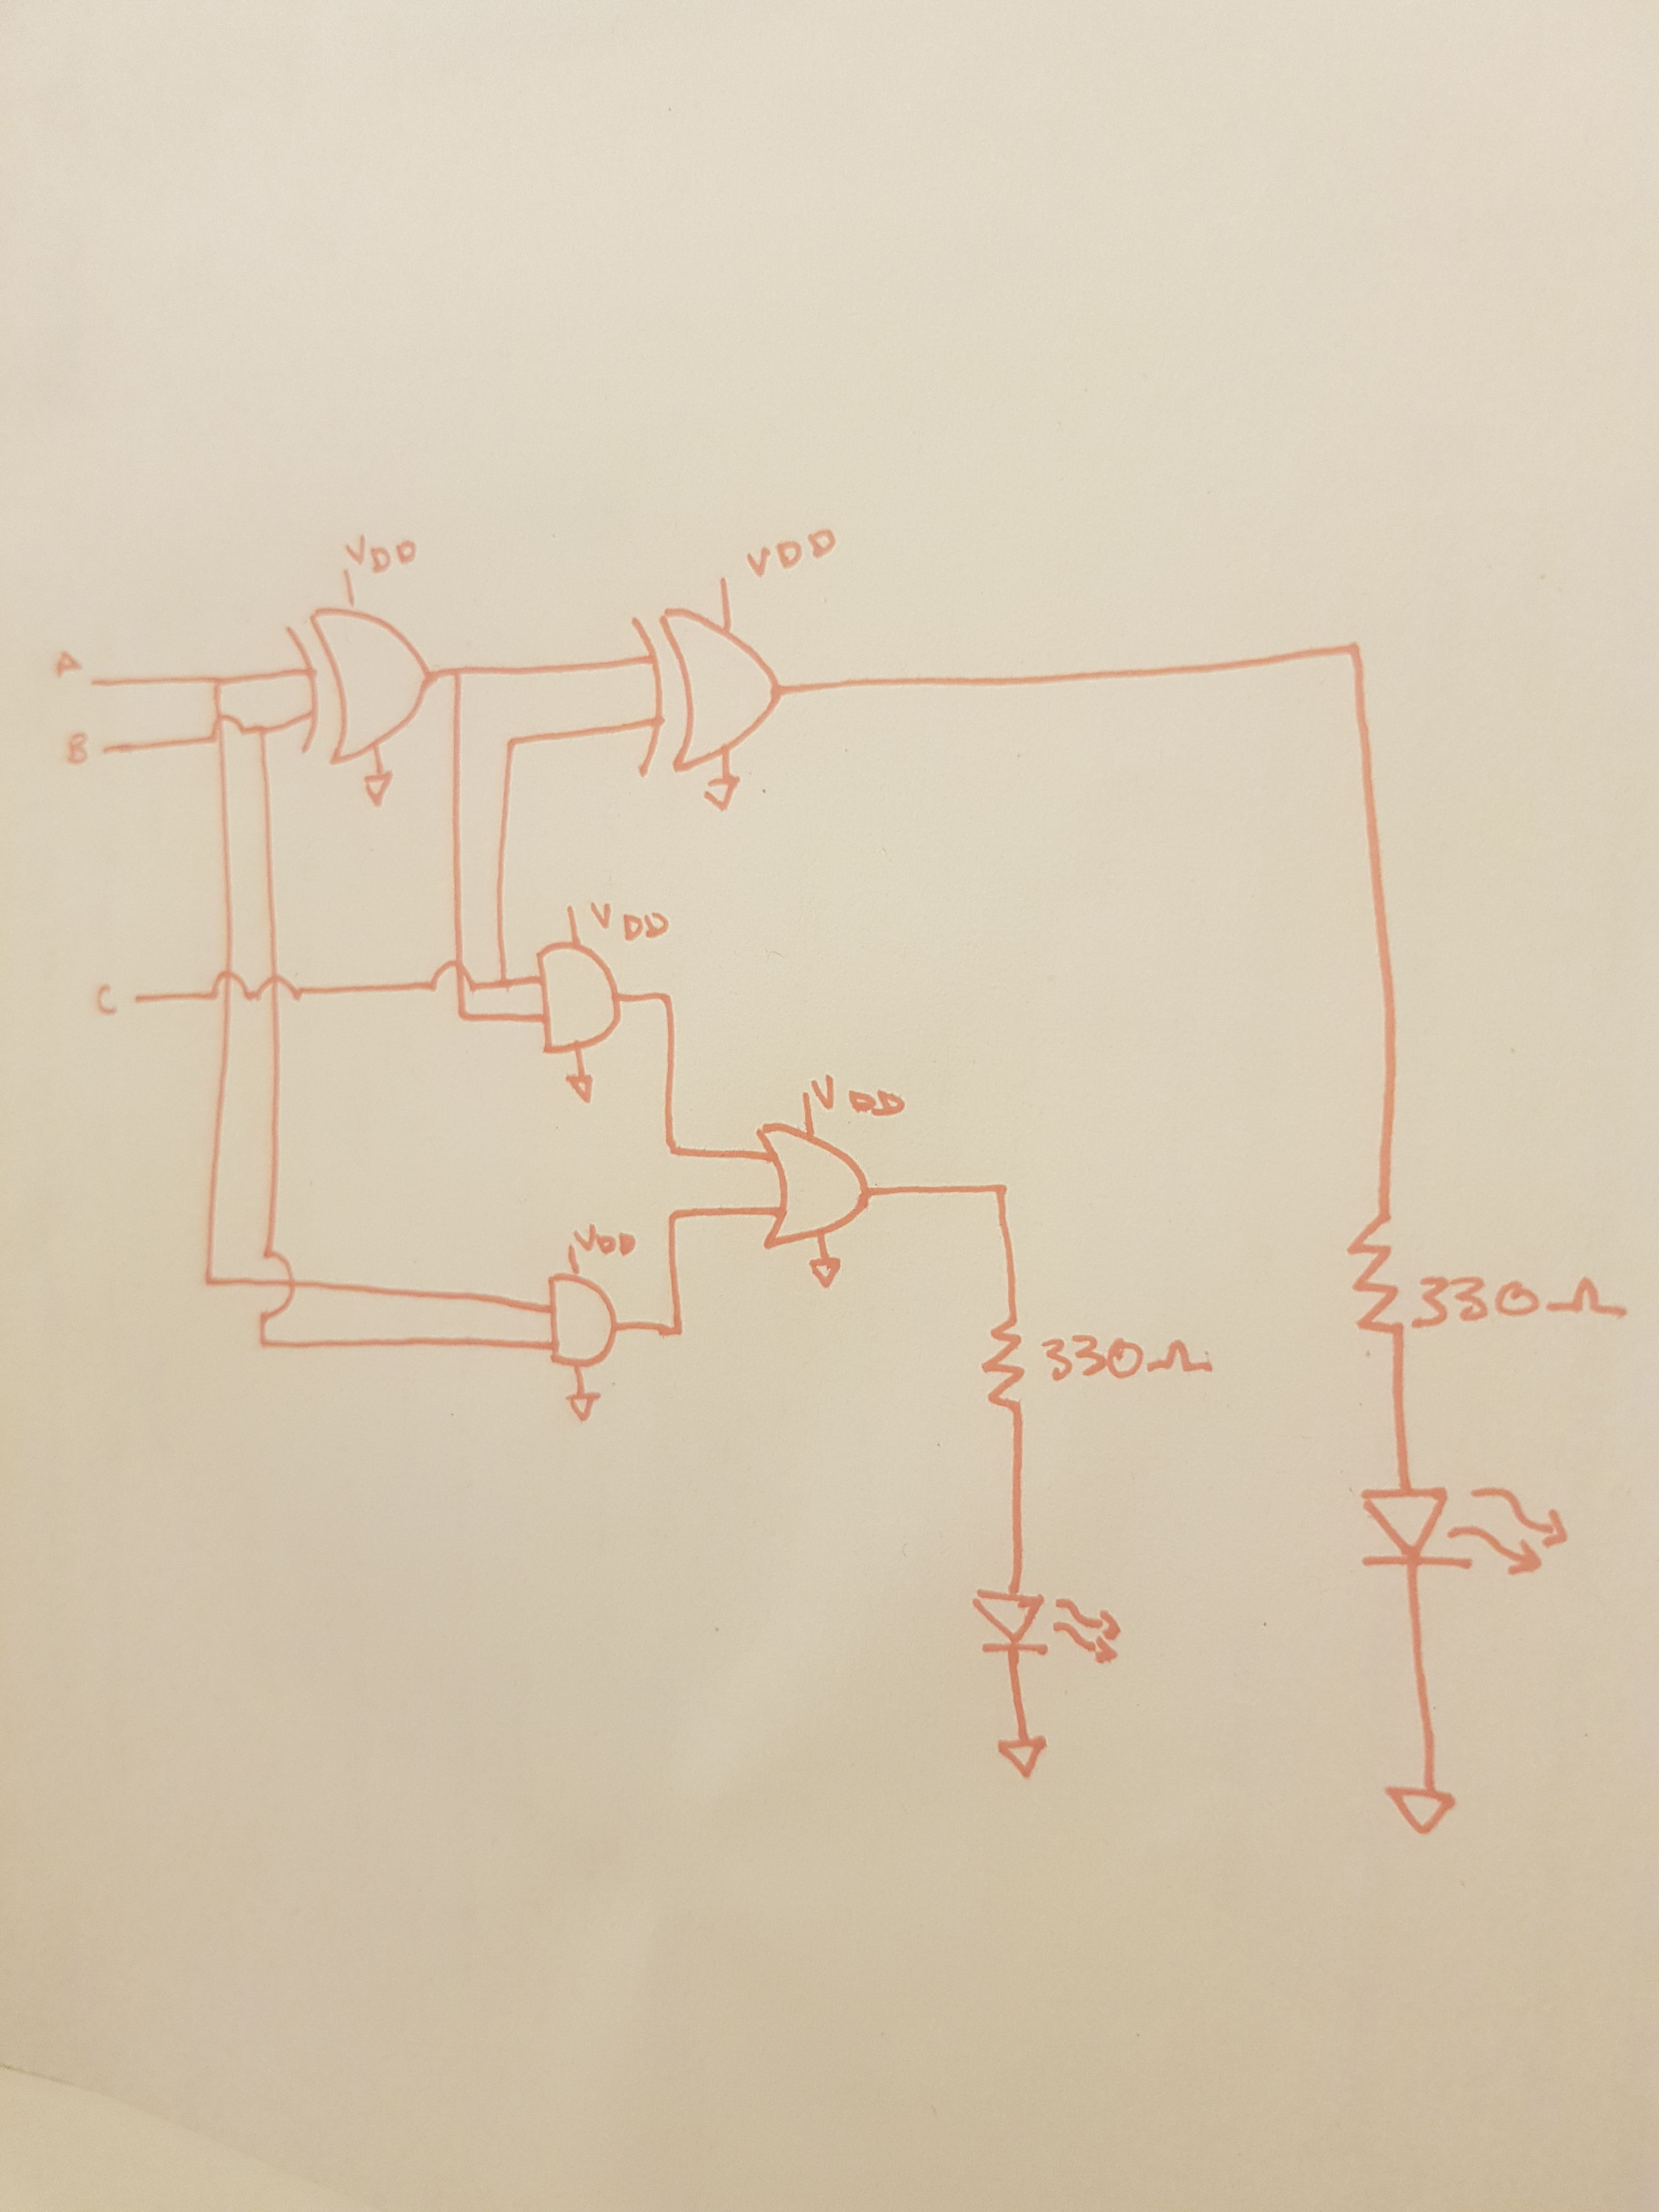and: (530, 932, 633, 1057), (544, 1259, 620, 1374)
crossover: (253, 1245, 298, 1320), (425, 960, 481, 995), (206, 972, 253, 1008), (253, 974, 301, 1008), (202, 714, 246, 742)
diode.light_emitting: (1351, 1468, 1588, 1590), (964, 1583, 1127, 1672)
gnd: (1377, 1777, 1459, 1838), (992, 1730, 1051, 1785), (701, 773, 742, 815), (803, 1251, 845, 1292), (565, 1390, 606, 1425), (361, 772, 397, 808), (561, 1073, 599, 1106)
junction: (1328, 629, 1371, 678), (983, 1163, 1023, 1209), (662, 1318, 690, 1345), (660, 1137, 687, 1162), (199, 1270, 223, 1292), (249, 1331, 275, 1352), (664, 1205, 687, 1228), (657, 988, 680, 1010), (451, 1003, 474, 1026), (204, 671, 228, 691), (502, 733, 523, 754), (251, 721, 272, 740), (497, 974, 516, 991), (450, 665, 467, 683)
or: (753, 1111, 882, 1251)
resistor: (1340, 1207, 1412, 1360), (978, 1308, 1035, 1423)
terminal: (91, 732, 127, 770), (80, 669, 112, 700), (122, 984, 153, 1012)
text: (1412, 1273, 1633, 1327), (1028, 1331, 1218, 1385), (739, 526, 842, 580), (561, 899, 681, 942), (809, 1071, 910, 1120), (343, 528, 422, 573), (572, 1221, 640, 1258), (51, 644, 85, 681), (64, 732, 92, 768), (92, 979, 119, 1015)
xor: (627, 597, 793, 780), (281, 594, 439, 766)
